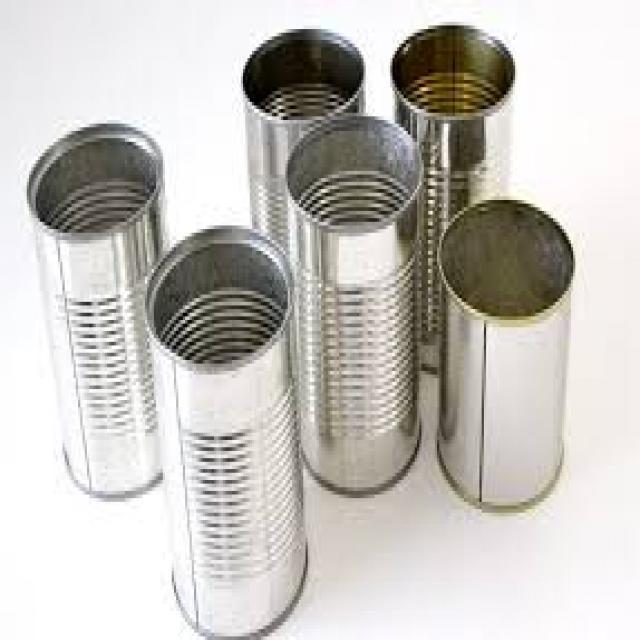metal-can: (138, 222, 306, 636), (24, 116, 166, 498), (283, 105, 417, 491), (388, 18, 515, 374), (432, 196, 571, 513), (240, 25, 364, 262)
